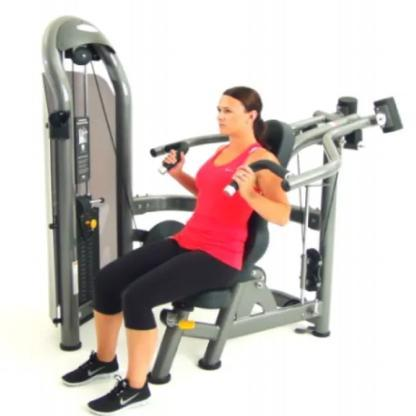shoulder press machine: (24, 8, 406, 416)
